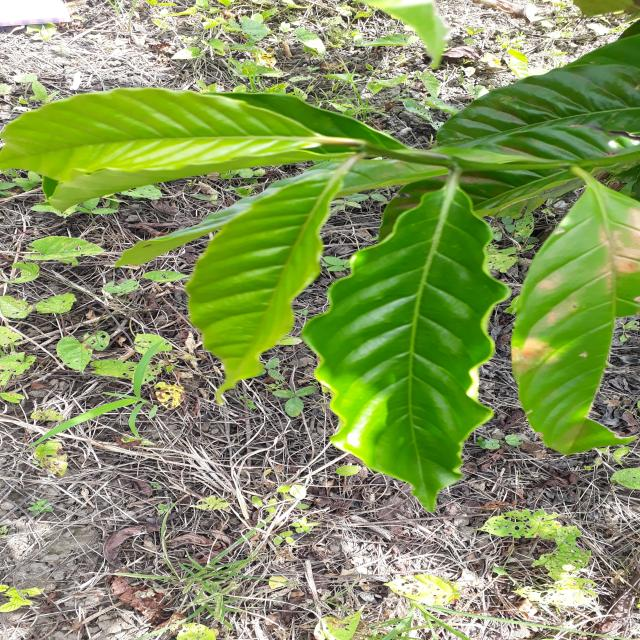Sanas: (305, 172, 510, 513)
